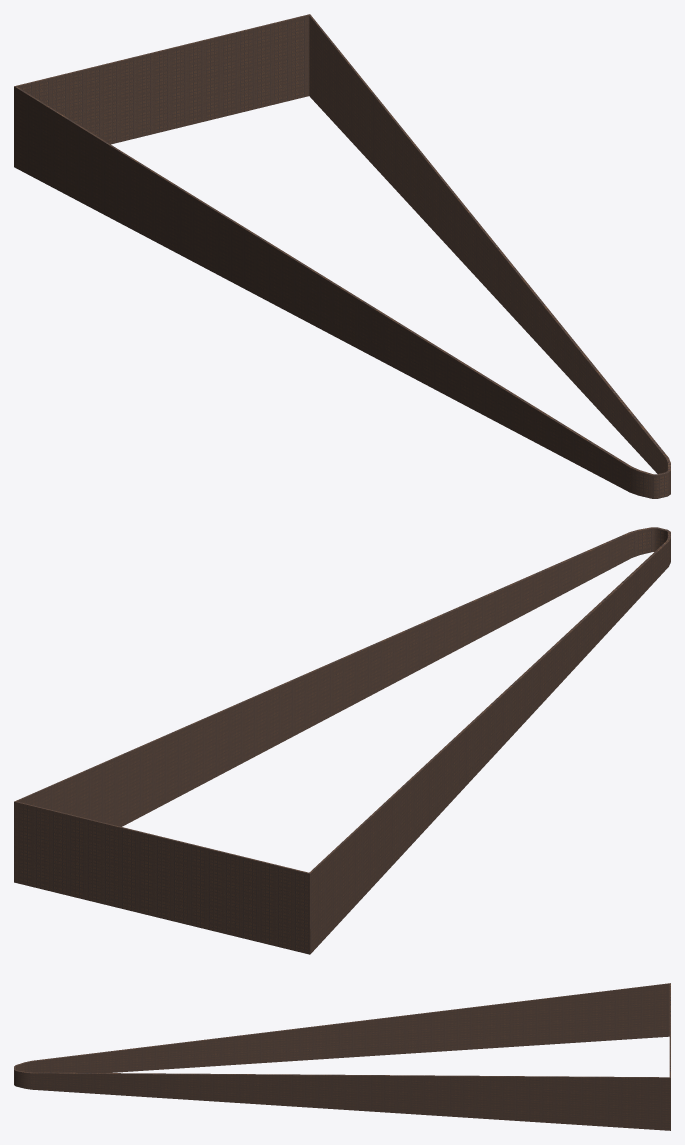
Rendered from Walls-transformed.glb.
3 renders of one model, top to bottom at view 1: azimuth 30°, elevation 25°; view 2: azimuth 150°, elevation 25°; view 3: azimuth 270°, elevation 25°, orthographic. The views are drawn at different scales.
Parts seen in each view (by area): view 1: Walls; view 2: Walls; view 3: Walls.
Boxes of the visible parts, x1,y1,x2,y2 form: Walls: (14,14,670,498); Walls: (14,527,670,954); Walls: (14,983,670,1130).
Bounding box in the file's own units: 76.65 × 19.99 × 225.
Materials: 1 (1 with a texture image).
